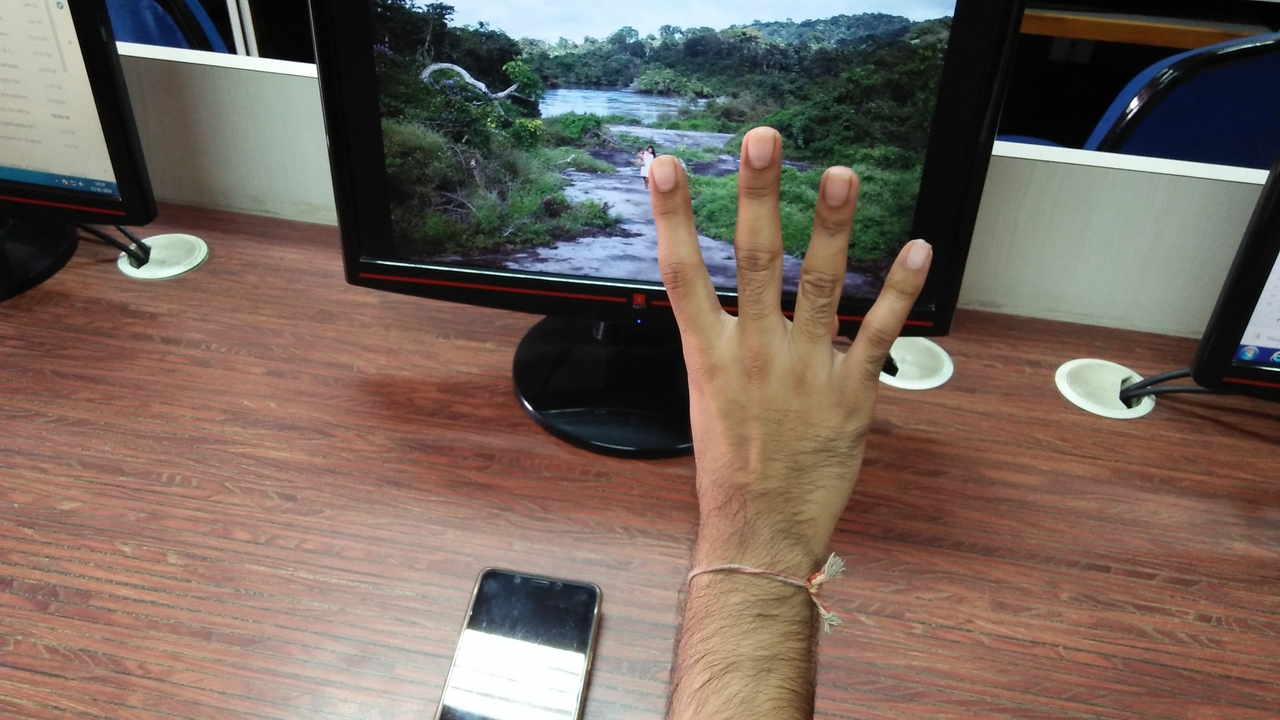fingertip: (884, 228, 940, 282), (734, 118, 790, 170), (816, 156, 866, 208), (642, 146, 692, 196)
